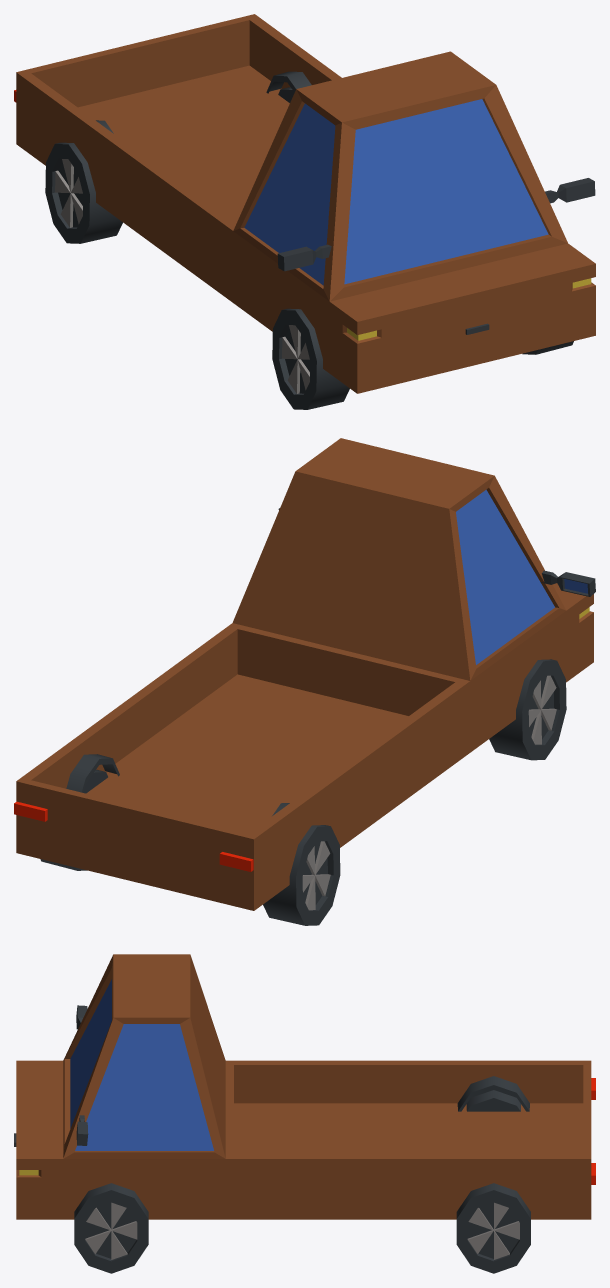
File: Van_2.fbx
3 renders of one model, top to bottom at view 1: azimuth 30°, elevation 25°; view 2: azimuth 150°, elevation 25°; view 3: azimuth 270°, elevation 25°, orthographic. The views are drawn at different scales.
Visible parts, largest first — view 1: Van_2; view 2: Van_2; view 3: Van_2.
Boxes of the visible parts, x1,y1,x2,y2 form: Van_2: (14,14,595,409); Van_2: (14,438,595,925); Van_2: (14,954,595,1273).
Size of the model in its own units: 311 by 262 by 596.
